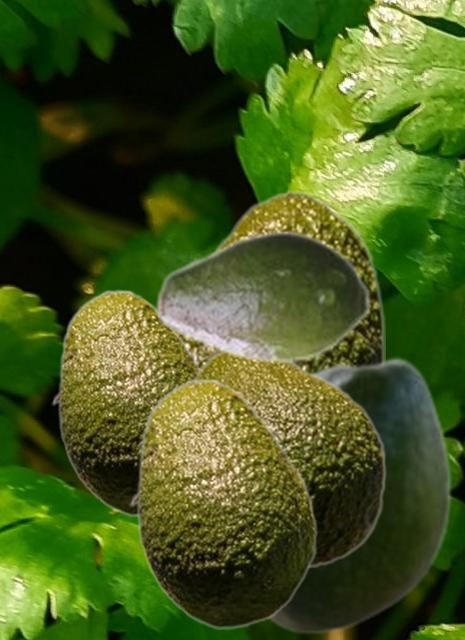avocado: (265, 356, 451, 634), (129, 378, 317, 628), (189, 350, 386, 568), (181, 190, 384, 370), (51, 289, 201, 515), (155, 229, 371, 364)
